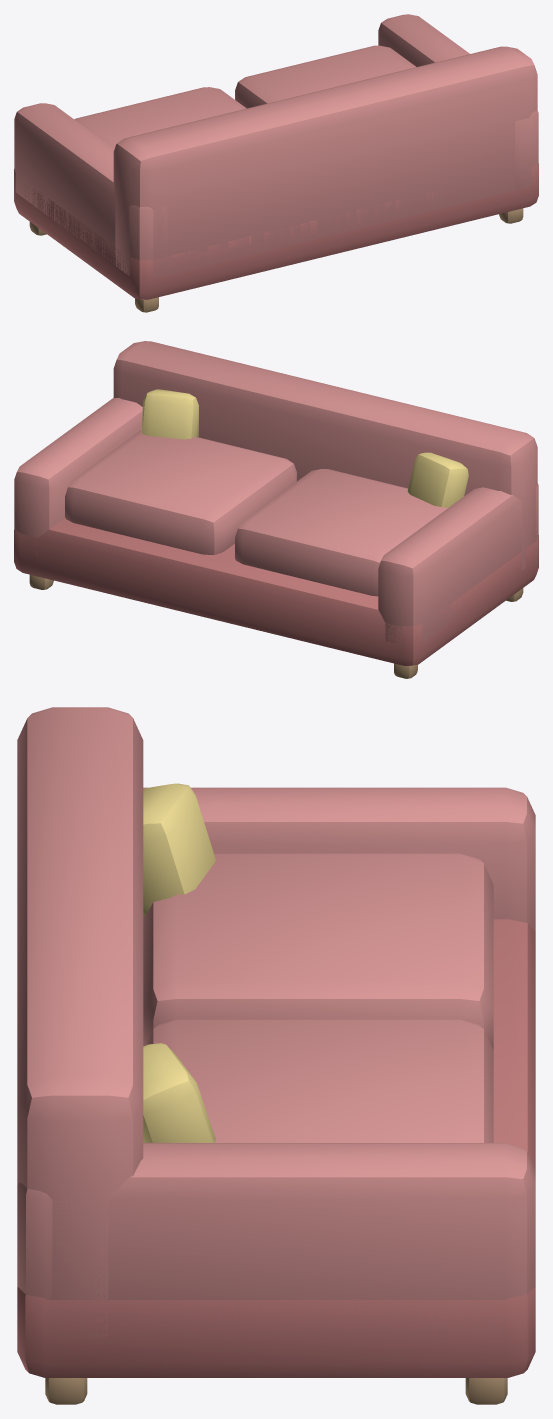
The model's file is prop_couch.glb.
3 renders of one model, top to bottom at view 1: azimuth 30°, elevation 25°; view 2: azimuth 150°, elevation 25°; view 3: azimuth 270°, elevation 25°, orthographic. The views are drawn at different scales.
Parts seen in each view (by area): view 1: couch; view 2: couch; view 3: couch.
Boxes of the visible parts, bbox=[...] form: couch: bbox=[14, 14, 538, 312]; couch: bbox=[14, 341, 538, 678]; couch: bbox=[17, 707, 535, 1404].
Bounding box in the file's own units: 67 × 26 × 37.
